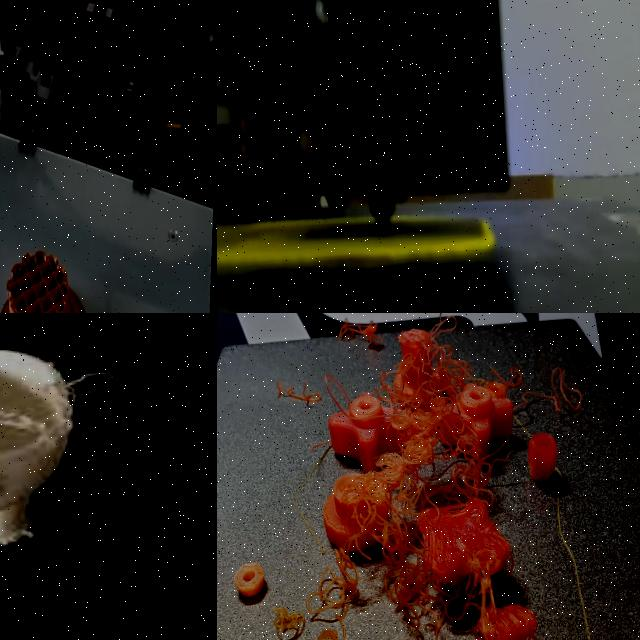spaghetti: (352, 368, 464, 640), (448, 344, 518, 505), (522, 358, 592, 423), (308, 536, 360, 619), (268, 365, 330, 427), (401, 313, 470, 359), (325, 313, 387, 360), (262, 589, 309, 640), (312, 630, 352, 640)
